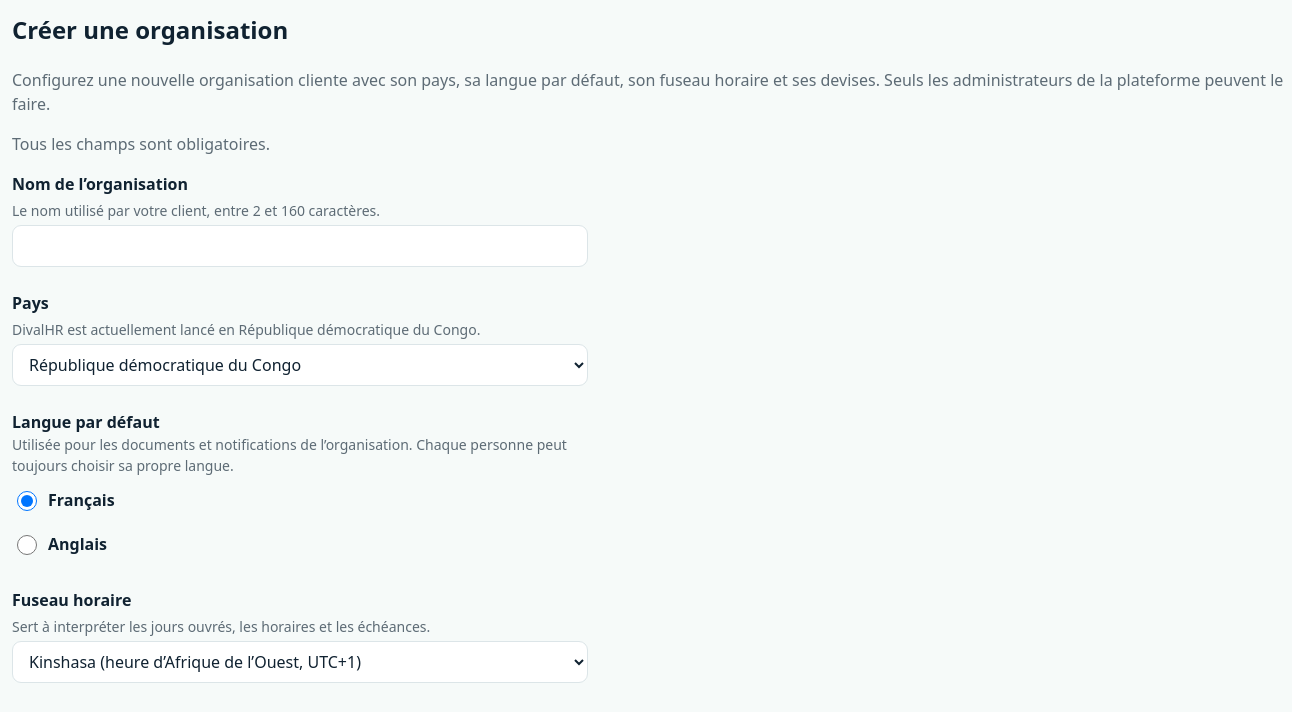
create organization page (fr) › maps server validation and not-supported codes to the right fields
Type "Clinique Espoir" into the field labelled "Nom de l’organisation" at (300, 246), box [12,225,588,267]
(page scrolled)
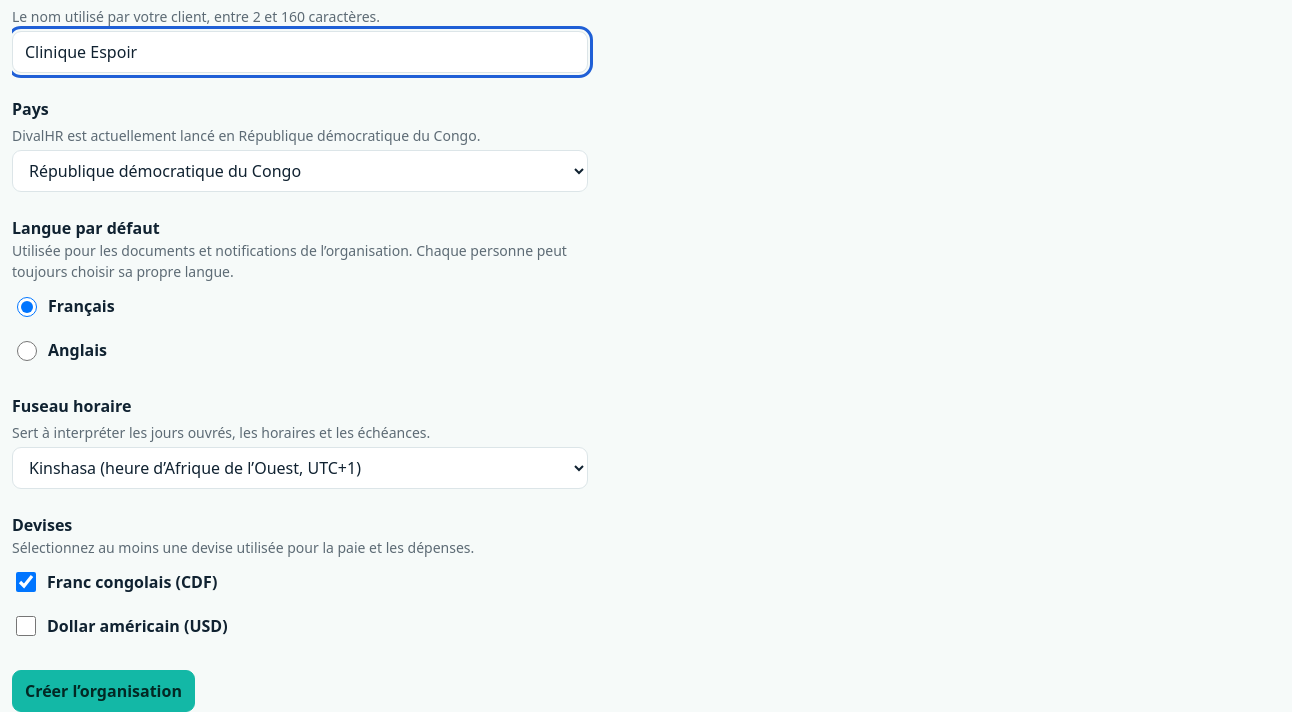
Click the button "Créer l’organisation" at (103, 691), box [12,670,195,711]
(page scrolled)
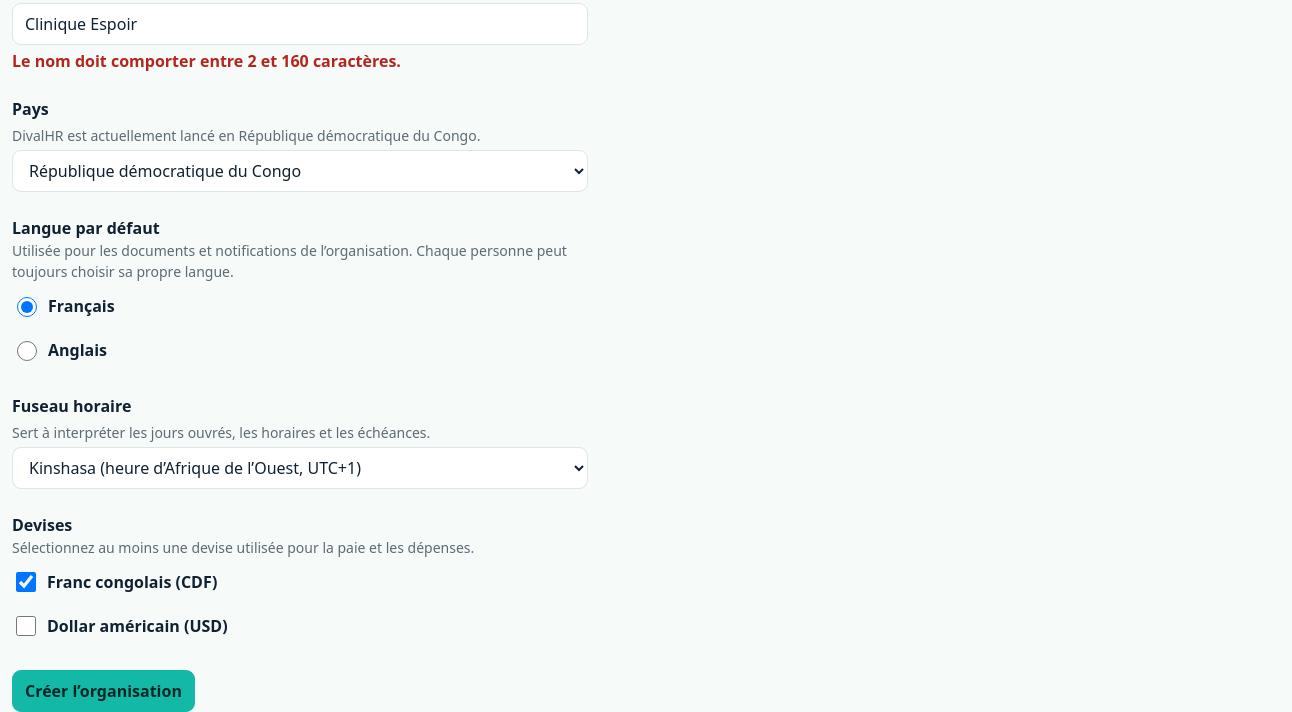
Expected: the text "Le nom doit comporter entre 2 et 160 caractères." is shown, [12,50,401,72]
Click the button "Créer l’organisation" at (103, 691), box [12,670,195,711]
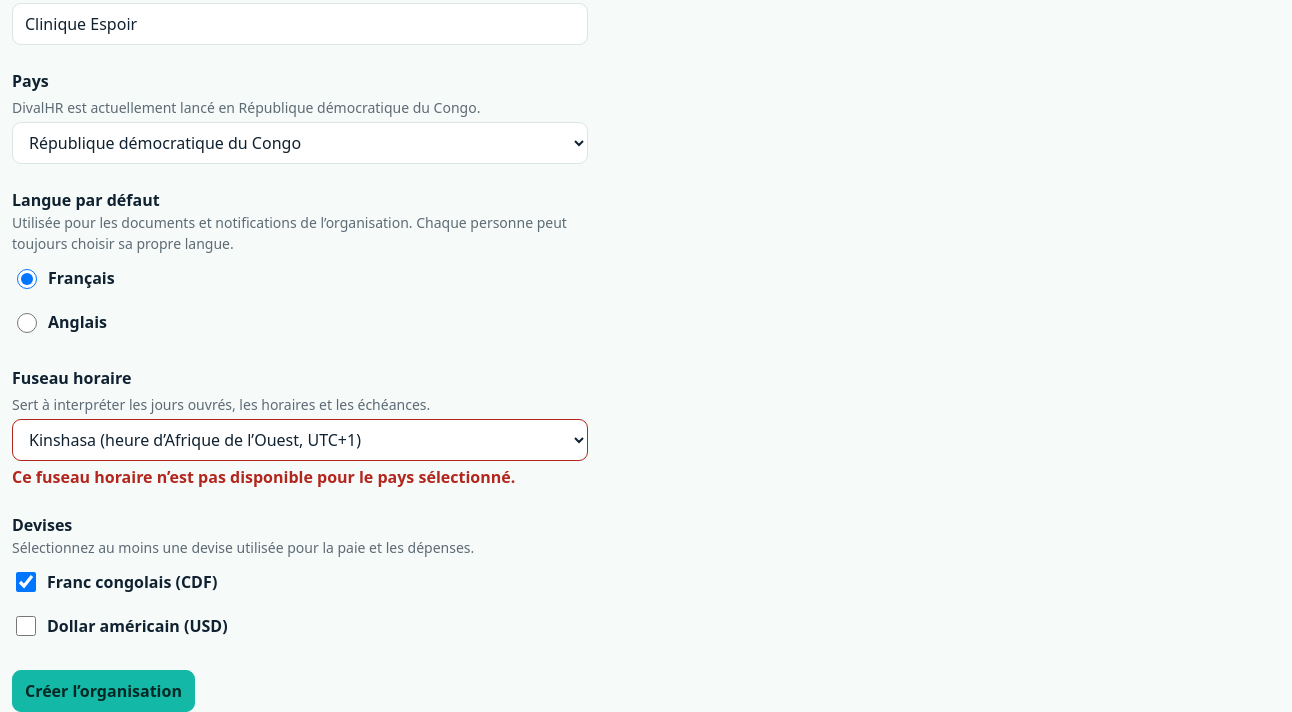
Expected: the text "Ce fuseau horaire n’est pas disponible pour le pays sélectionné." is shown, [12,465,588,489]
